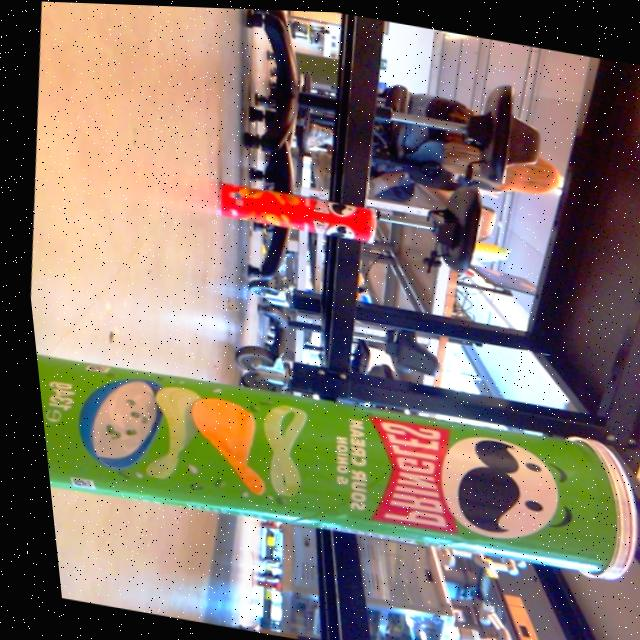greenpringles: (24, 299, 640, 614)
redpringles: (203, 167, 394, 256)
